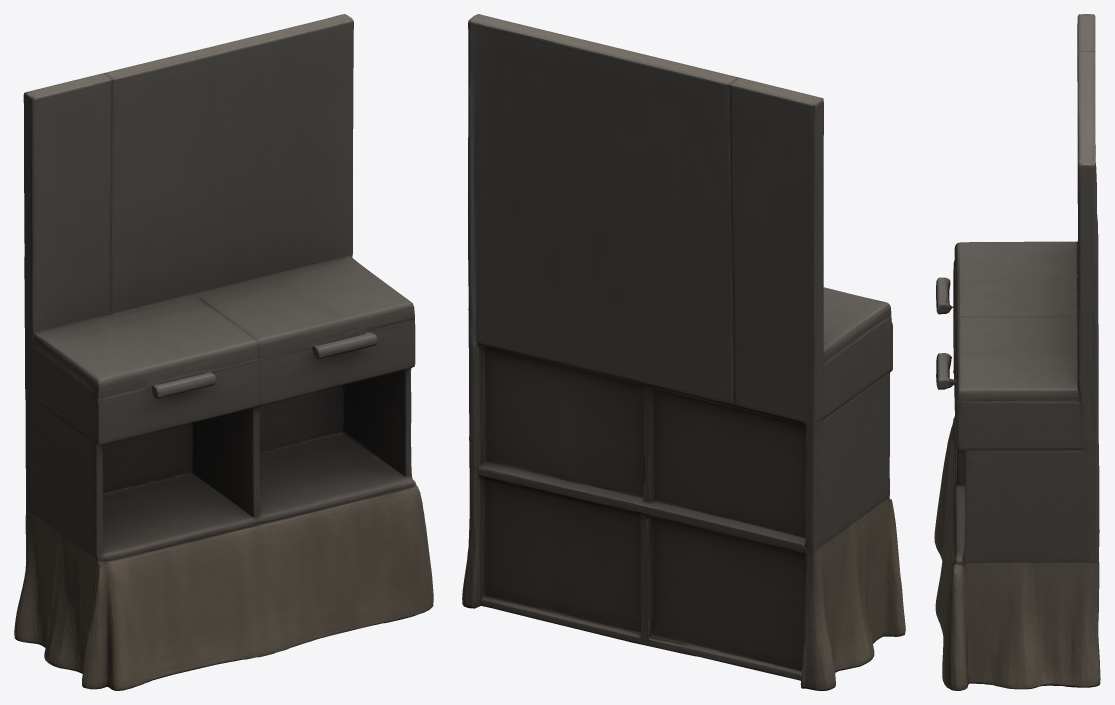
3 views of the same model, side by side, from view 1: azimuth 30°, elevation 25°; view 2: azimuth 150°, elevation 25°; view 3: azimuth 270°, elevation 25° (orthographic). The views are drawn at different scales.
Parts seen in each view (by area): view 1: world; view 2: world; view 3: world.
Boxes of the visible parts, x1,y1,x2,y2 form: world: (14,14,433,690); world: (462,14,905,690); world: (934,14,1100,690).
Size of the model in its own units: 0.6769 by 1 by 0.2892.
1 material, 1 textured.
